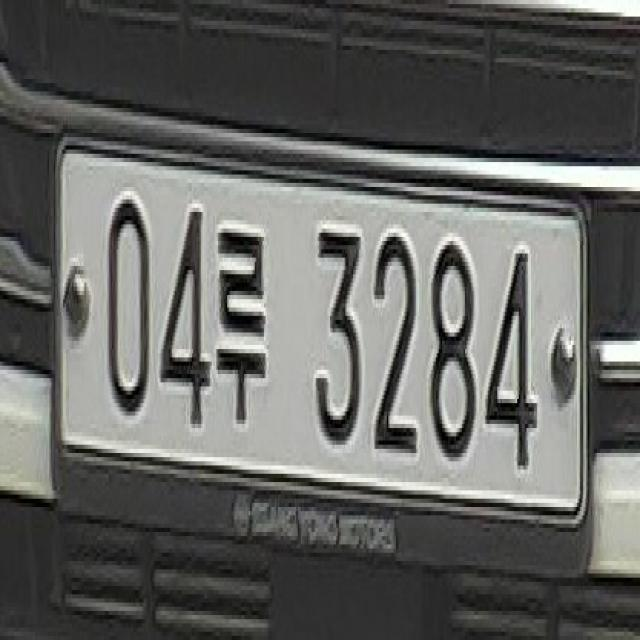0: (103, 178, 151, 436)
2: (364, 221, 427, 478)
3: (308, 212, 364, 460)
4: (158, 194, 218, 451), (486, 233, 538, 491)
8: (426, 216, 482, 474)
license_plate: (36, 102, 621, 578)
lu: (219, 219, 281, 432)
